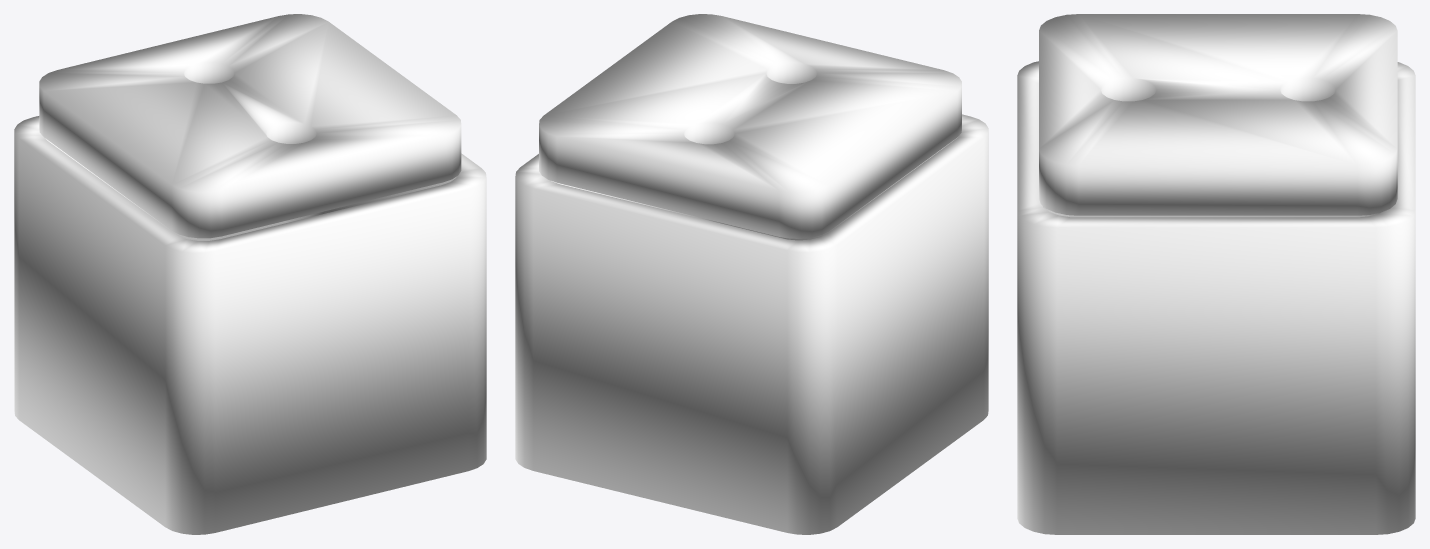
The model's file is gaiban.obj.
3 renders of one model, left to right at view 1: azimuth 30°, elevation 25°; view 2: azimuth 150°, elevation 25°; view 3: azimuth 270°, elevation 25°, orthographic. The views are drawn at different scales.
Size of the model in its own units: 1 by 1 by 1.
Materials: 1 (1 with a texture image).
